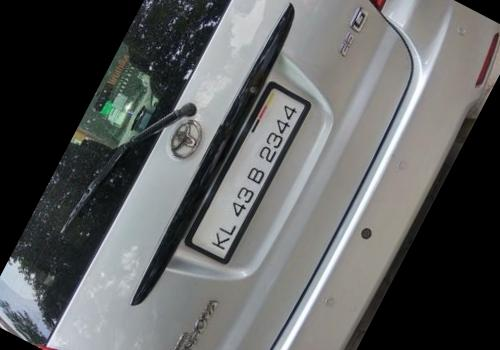plate: (164, 43, 338, 289)
